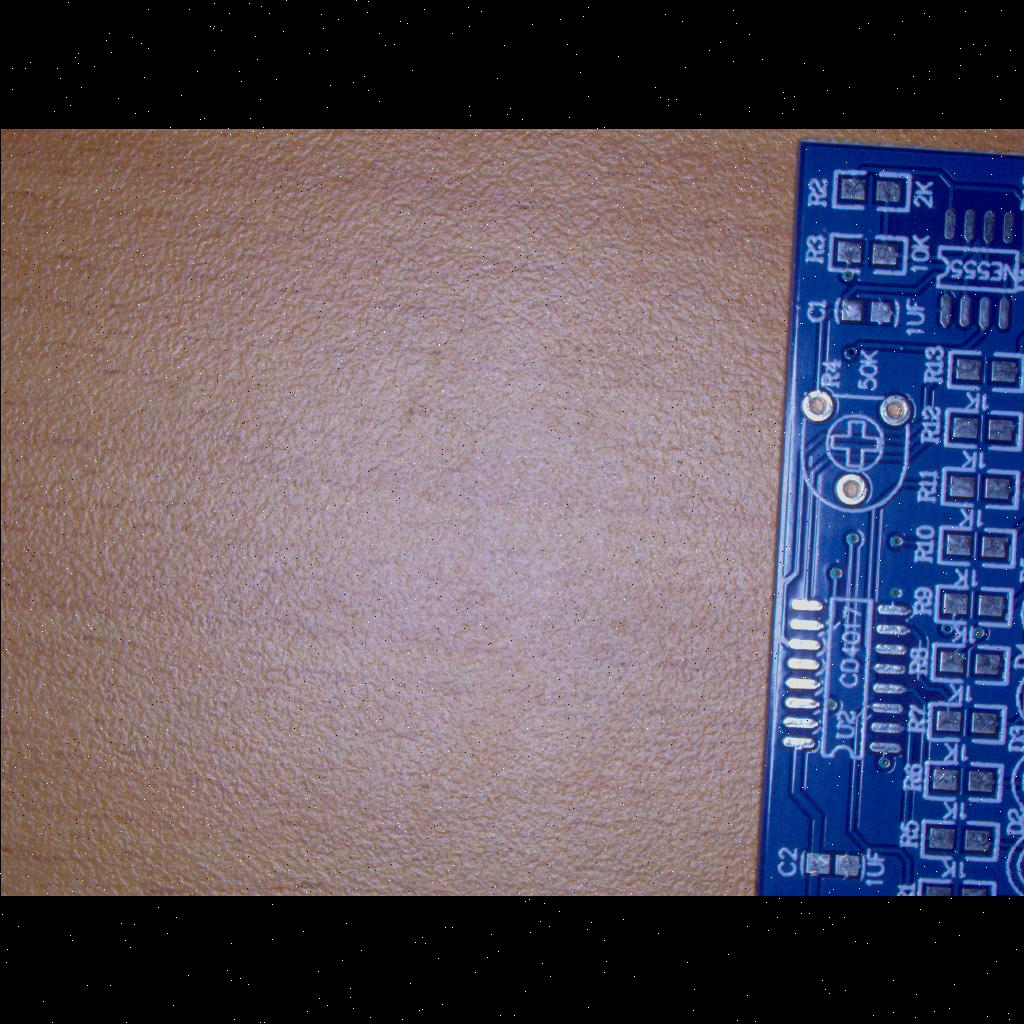NG: (777, 581, 915, 771), (932, 195, 1024, 337), (818, 224, 916, 280), (922, 695, 1010, 751), (936, 462, 1024, 516), (932, 522, 1020, 574), (921, 756, 1005, 810), (919, 812, 999, 868), (828, 166, 914, 218), (944, 341, 1024, 396), (927, 638, 1011, 690), (934, 406, 1024, 452), (932, 583, 1016, 631), (826, 290, 900, 334), (796, 843, 872, 885)
